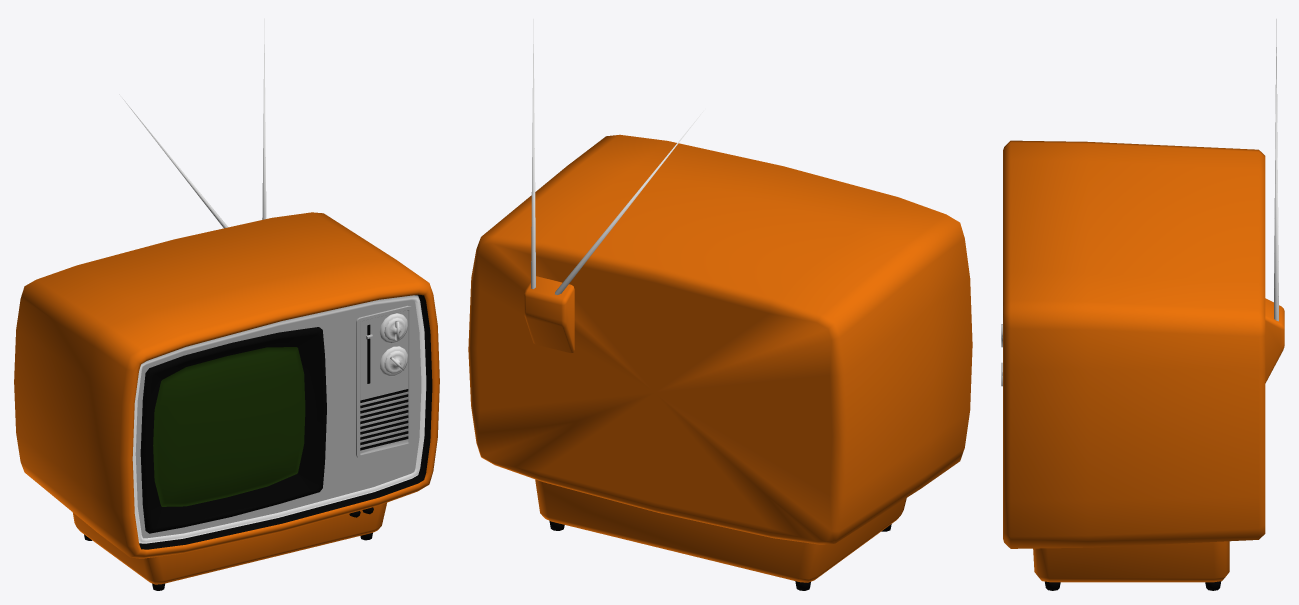
File: TV_model_ORIGINAL_3D.gltf
3 renders of one model, left to right at view 1: azimuth 30°, elevation 25°; view 2: azimuth 150°, elevation 25°; view 3: azimuth 270°, elevation 25°, orthographic. The views are drawn at different scales.
Parts seen in each view (by area): view 1: Retro_TV; view 2: Retro_TV; view 3: Retro_TV.
Part boxes in pixels (x1,y1,x2,y2): Retro_TV: (14,18,439,590); Retro_TV: (468,19,972,590); Retro_TV: (1001,19,1284,590).
Size of the model in its own units: 110 by 150 by 71.95.
